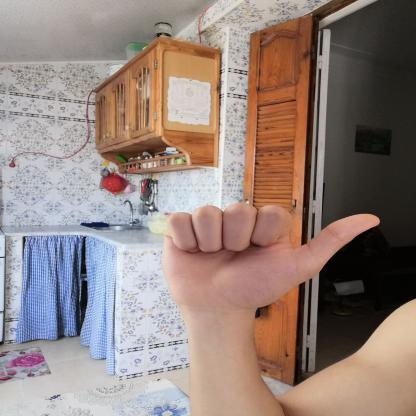DAD: (149, 193, 394, 324)
